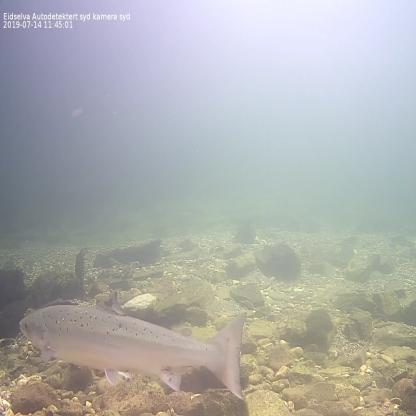salmon: (17, 288, 249, 416)
